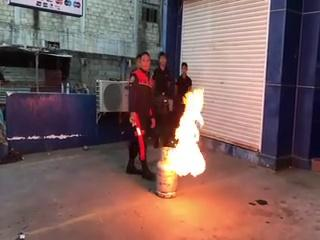Fire: (161, 81, 211, 178)
